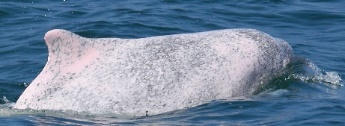fin: (12, 19, 303, 118)
